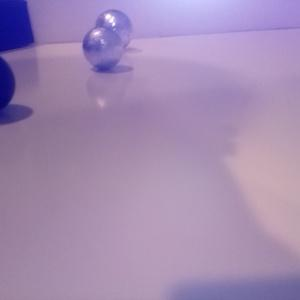alive_ball: (82, 25, 122, 69), (93, 9, 132, 49)
dead_ball: (1, 56, 16, 109)
